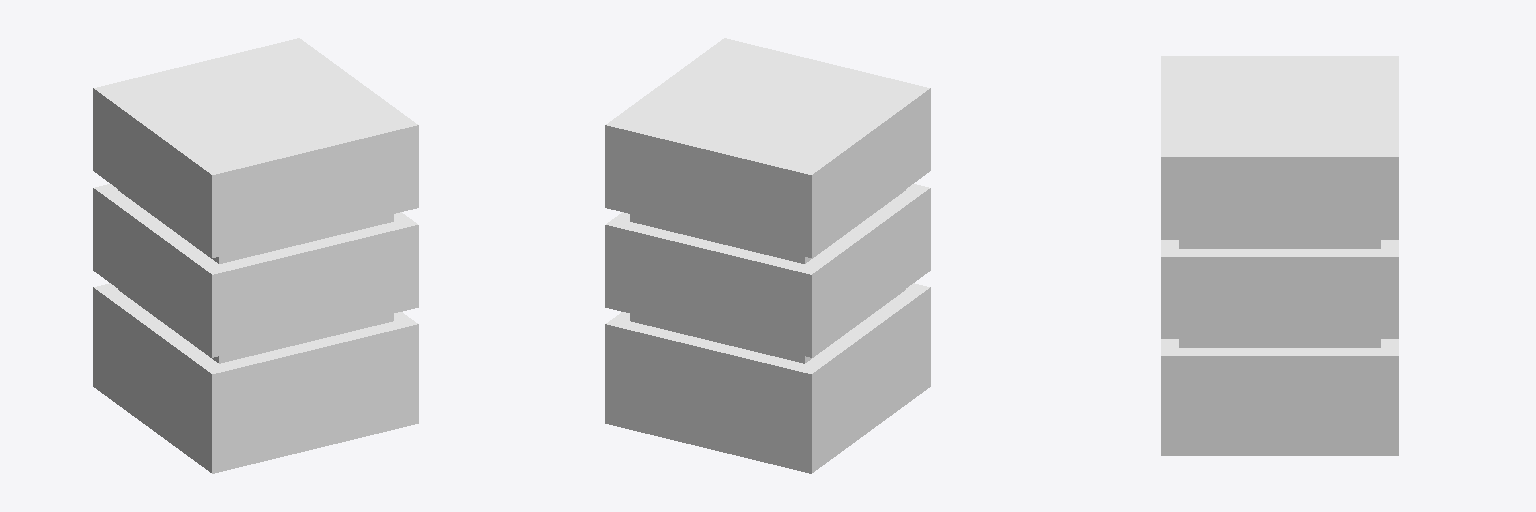
The model's file is blocks.obj.
3 renders of one model, left to right at view 1: azimuth 30°, elevation 25°; view 2: azimuth 150°, elevation 25°; view 3: azimuth 270°, elevation 25°, orthographic.
Parts seen in each view (by area): view 1: object 1; view 2: object 1; view 3: object 1.
Part boxes in pixels (bbox=[...]): object 1: bbox=[93, 38, 418, 473]; object 1: bbox=[605, 38, 930, 473]; object 1: bbox=[1161, 56, 1398, 455].
Bounding box in the file's own units: 1.3 × 1.8 × 1.3.